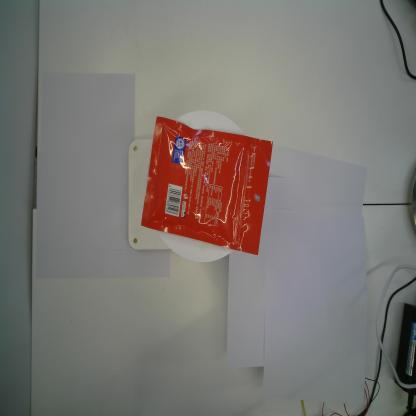Dried Fruit: (139, 115, 273, 257)
